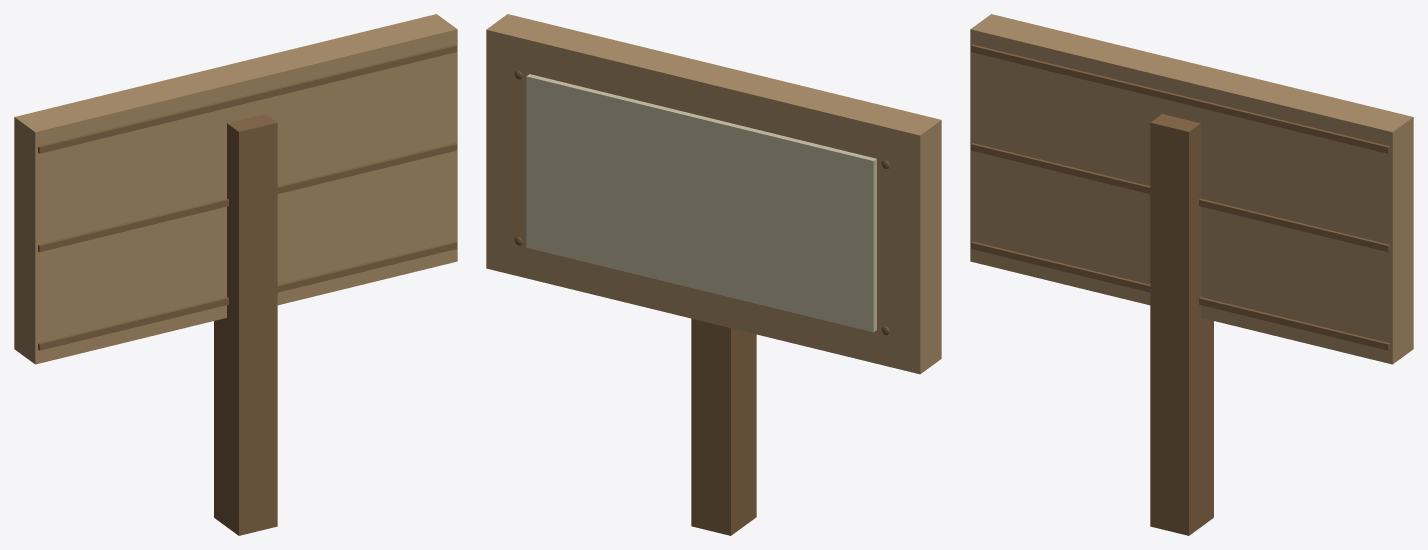
The model's file is sign_helpers_low.glb.
3 renders of one model, left to right at view 1: azimuth 30°, elevation 25°; view 2: azimuth 150°, elevation 25°; view 3: azimuth 330°, elevation 25°, orthographic. The views are drawn at different scales.
Size of the model in its own units: 1.75 by 1.75 by 0.2575.
